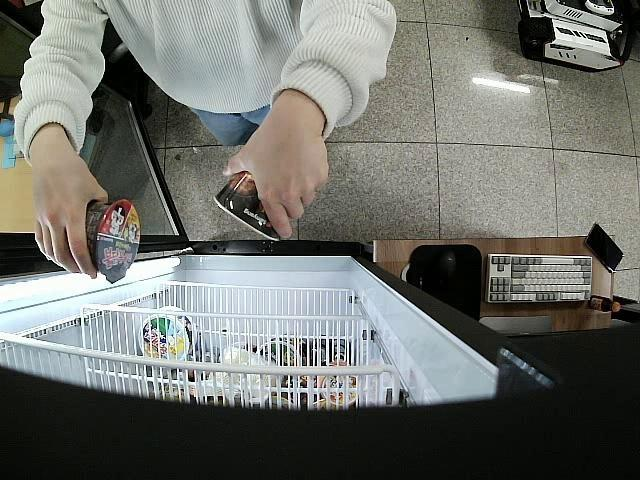08_buldak_S: (210, 168, 282, 244), (84, 199, 141, 283)
